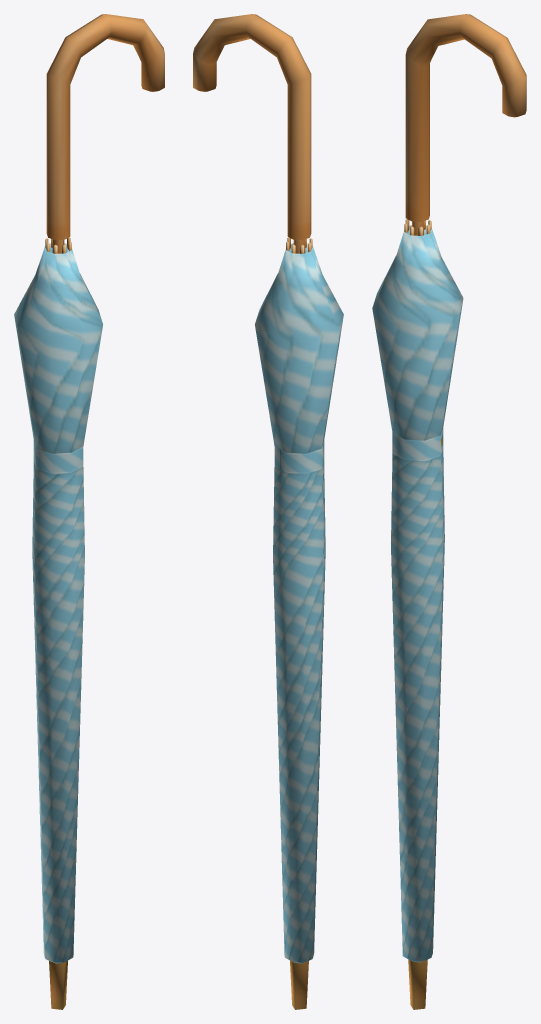
Rendered from set_umbrella_15.fbx.
The picture shows the model from 3 angles, left to right: view 1: azimuth 30°, elevation 25°; view 2: azimuth 150°, elevation 25°; view 3: azimuth 330°, elevation 25°; orthographic projection. The views are drawn at different scales.
Parts seen in each view (by area): view 1: set_umbrella_15; view 2: set_umbrella_15; view 3: set_umbrella_15.
Boxes of the visible parts, bbox=[...] form: set_umbrella_15: bbox=[14, 14, 164, 1009]; set_umbrella_15: bbox=[193, 14, 343, 1009]; set_umbrella_15: bbox=[372, 14, 526, 1009].
Bounding box in the file's own units: 12.79 × 82.9 × 7.05.
